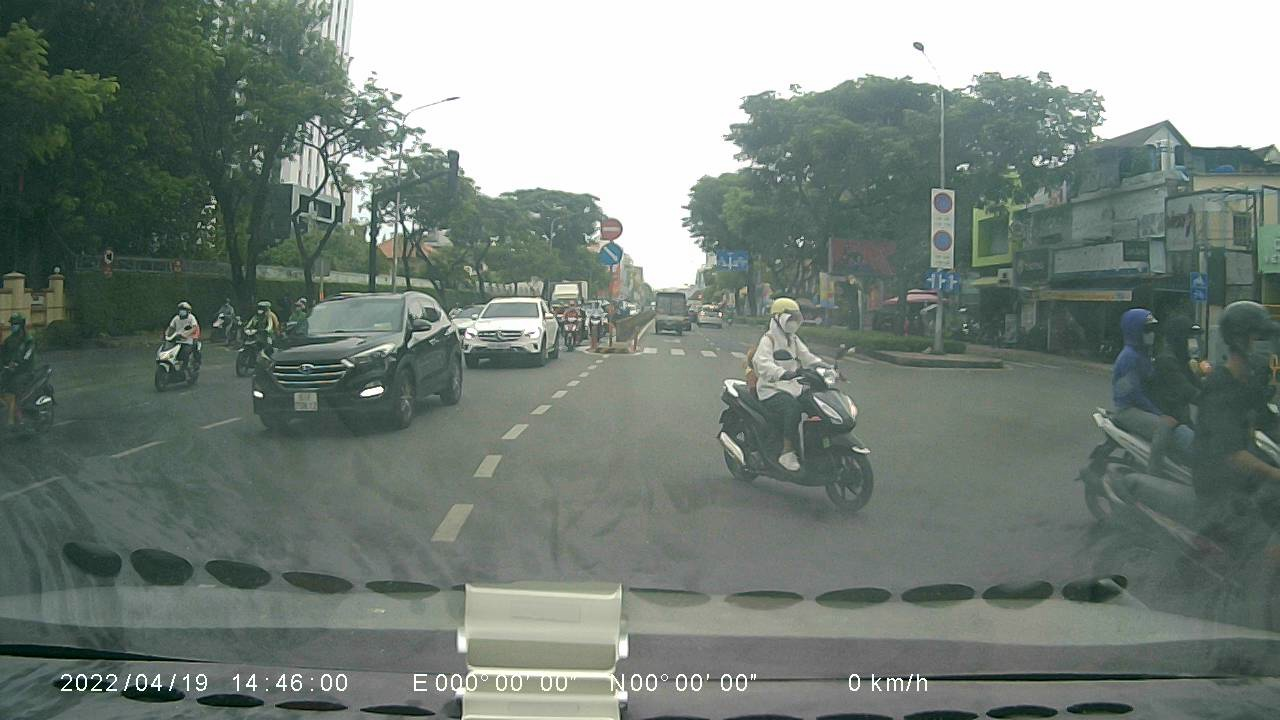Cam di nguoc chieu: (600, 215, 622, 241)
Cam do xe: (932, 230, 952, 253)
Huong di phai re phai: (595, 240, 623, 265)
